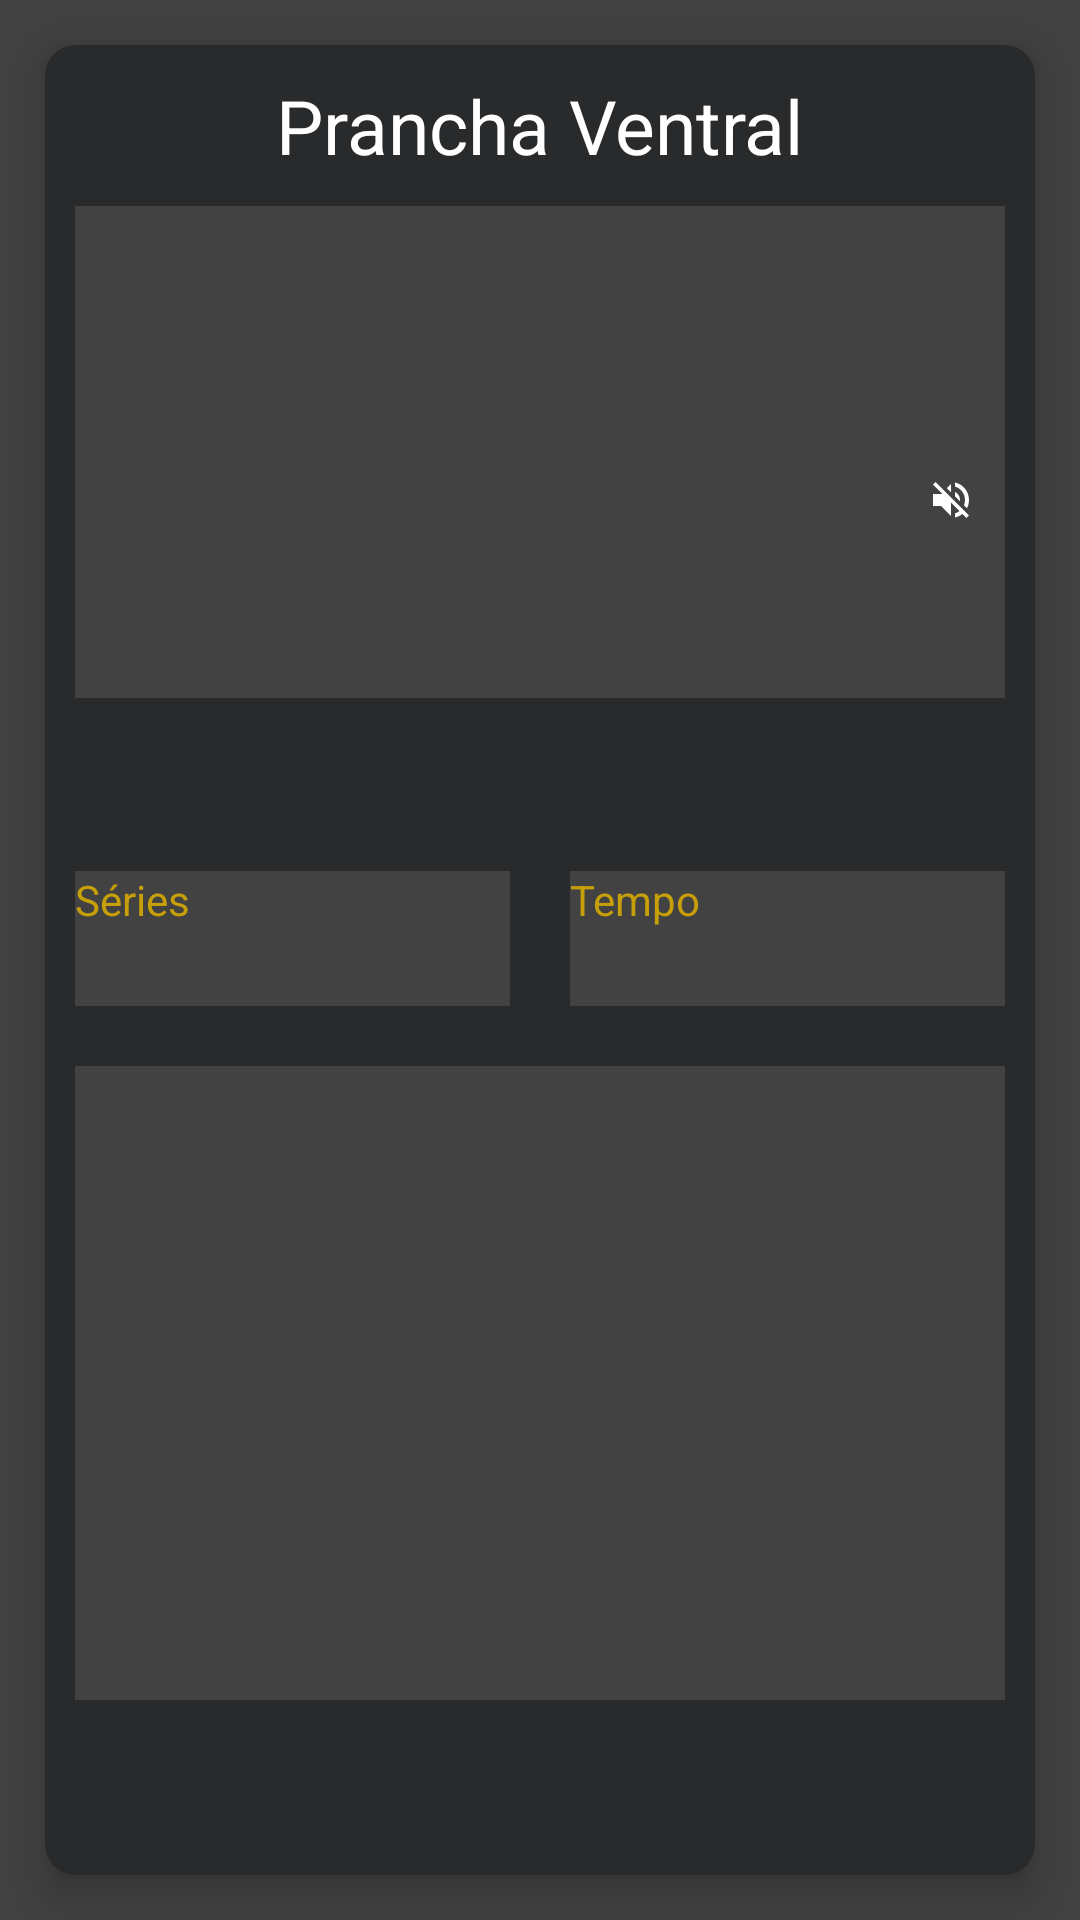

Where to tap for icons on this 1080x1920 app screen, as point (x, y):
volume off: point (951, 500)
